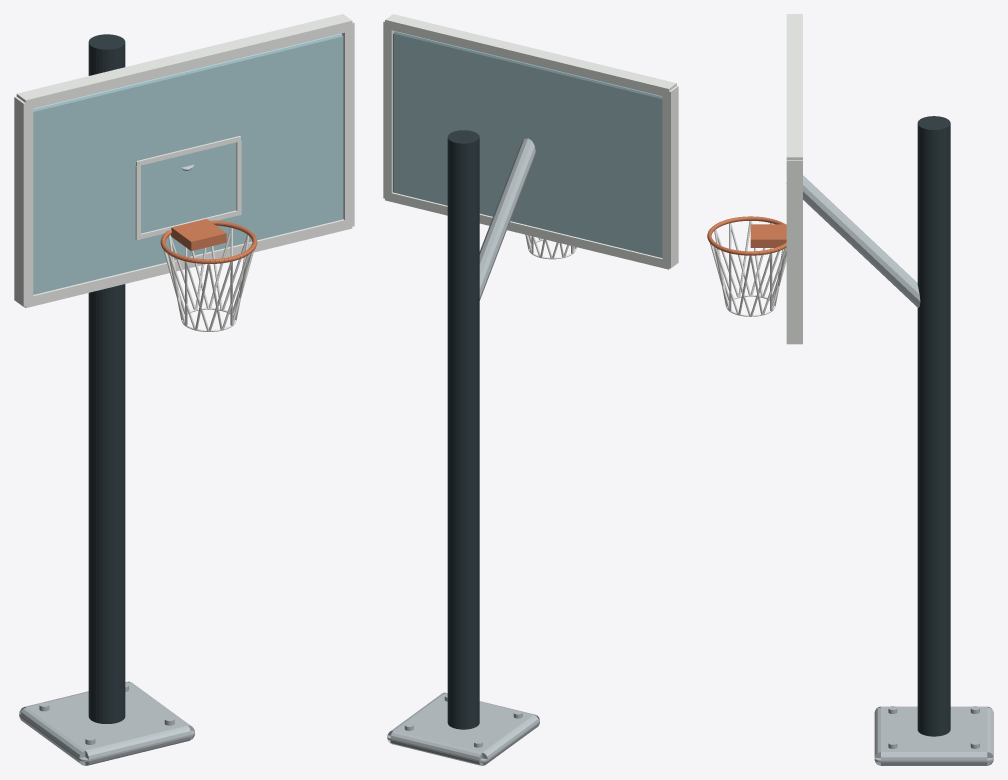
The model's file is basketball-club-and-street-courts-anchored-hoop-380419f7.glb.
The picture shows the model from 3 angles, left to right: view 1: azimuth 30°, elevation 25°; view 2: azimuth 150°, elevation 25°; view 3: azimuth 270°, elevation 25°; orthographic projection. The views are drawn at different scales.
Parts seen in each view (by area): view 1: anchored-hoop; view 2: anchored-hoop; view 3: anchored-hoop.
Part boxes in pixels (x1,y1,x2,y2): anchored-hoop: (14, 14, 354, 765); anchored-hoop: (383, 14, 678, 765); anchored-hoop: (707, 14, 993, 765).
Size of the model in its own units: 1.88 by 3.95 by 1.56.
